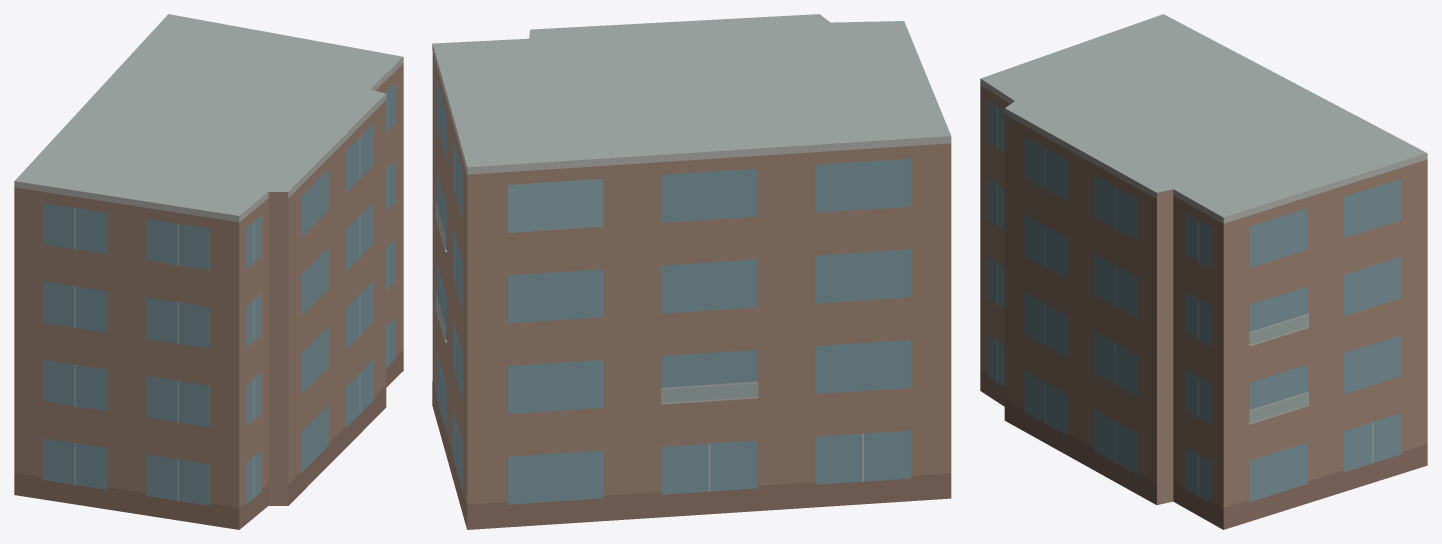
File: survey-upis-33032409.glb
3 views of the same model, side by side, from view 1: azimuth 30°, elevation 25°; view 2: azimuth 150°, elevation 25°; view 3: azimuth 270°, elevation 25° (orthographic). The views are drawn at different scales.
Parts seen in each view (by area): view 1: survey-upis-33032409.tmp; view 2: survey-upis-33032409.tmp; view 3: survey-upis-33032409.tmp.
Boxes of the visible parts, x1=… form: survey-upis-33032409.tmp: x1=14, y1=14, x2=403, y2=529; survey-upis-33032409.tmp: x1=432, y1=14, x2=951, y2=529; survey-upis-33032409.tmp: x1=980, y1=14, x2=1427, y2=529.
Bounding box in the file's own units: 17.06 × 12.2 × 15.84.
